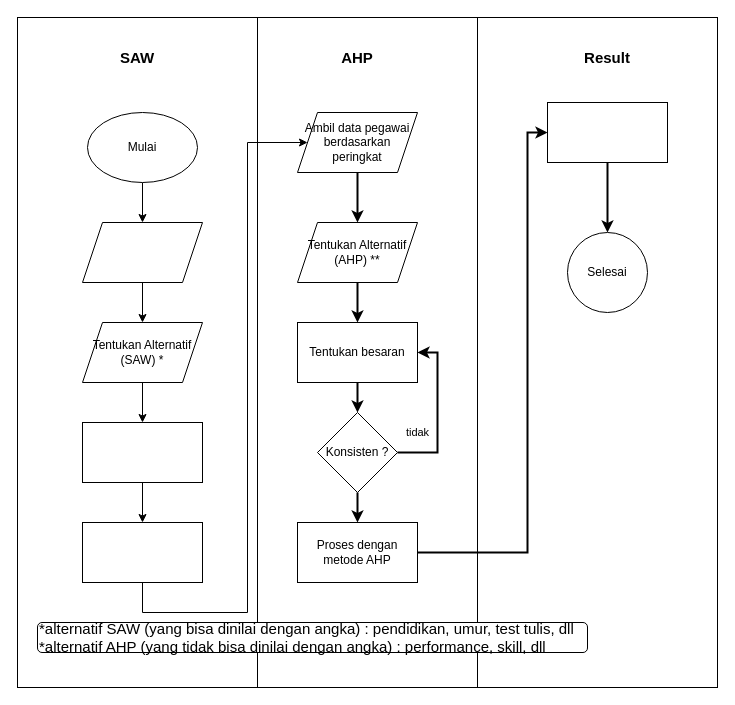
Image size: 735x705. Some labels were removed from this diagram. The shapes that lost their labels are listed below. From the top down, each one's centre as x and y in pixels, then its label:
At [607,132]: "Menampilkan data dalam bentuk pie chart".
At [142,252]: "Ambil data pegawai".
At [142,452]: "Proses dengan metode SAW".
At [142,552]: "Menampilkan Peringkat".
